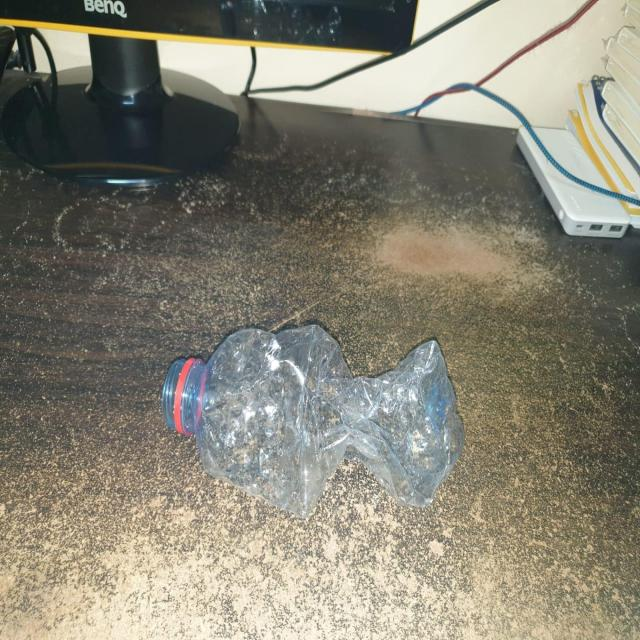bottle: (160, 325, 468, 515)
